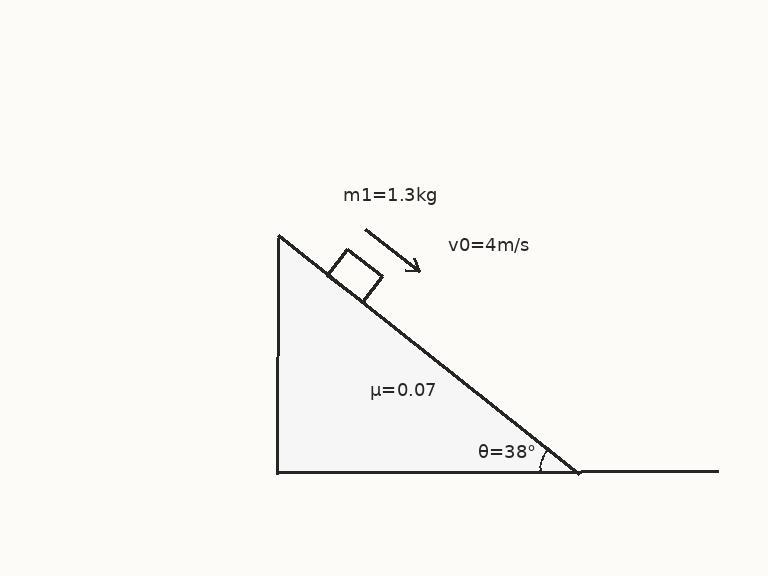block: (325, 247, 384, 304)
ramp: (276, 234, 582, 474)
